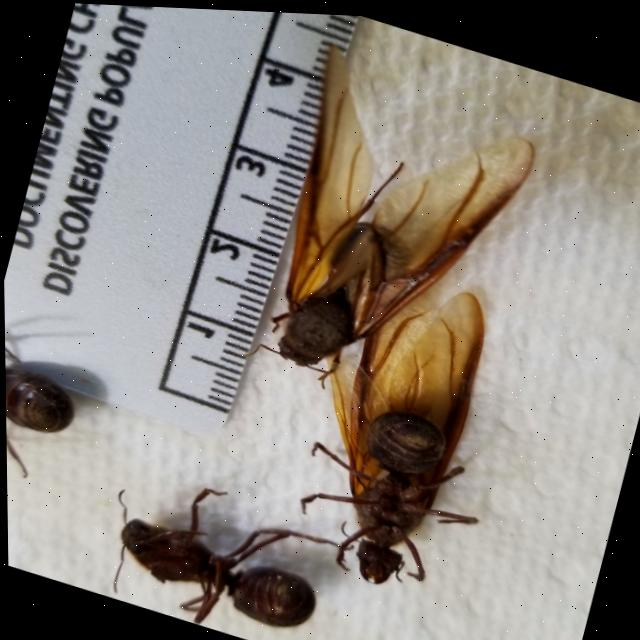Alive-Female-Alate: (234, 35, 550, 433)
Dead-Female-Alate: (256, 244, 536, 609)
Dead-Female-Dealate: (88, 457, 355, 640), (4, 340, 86, 493)
